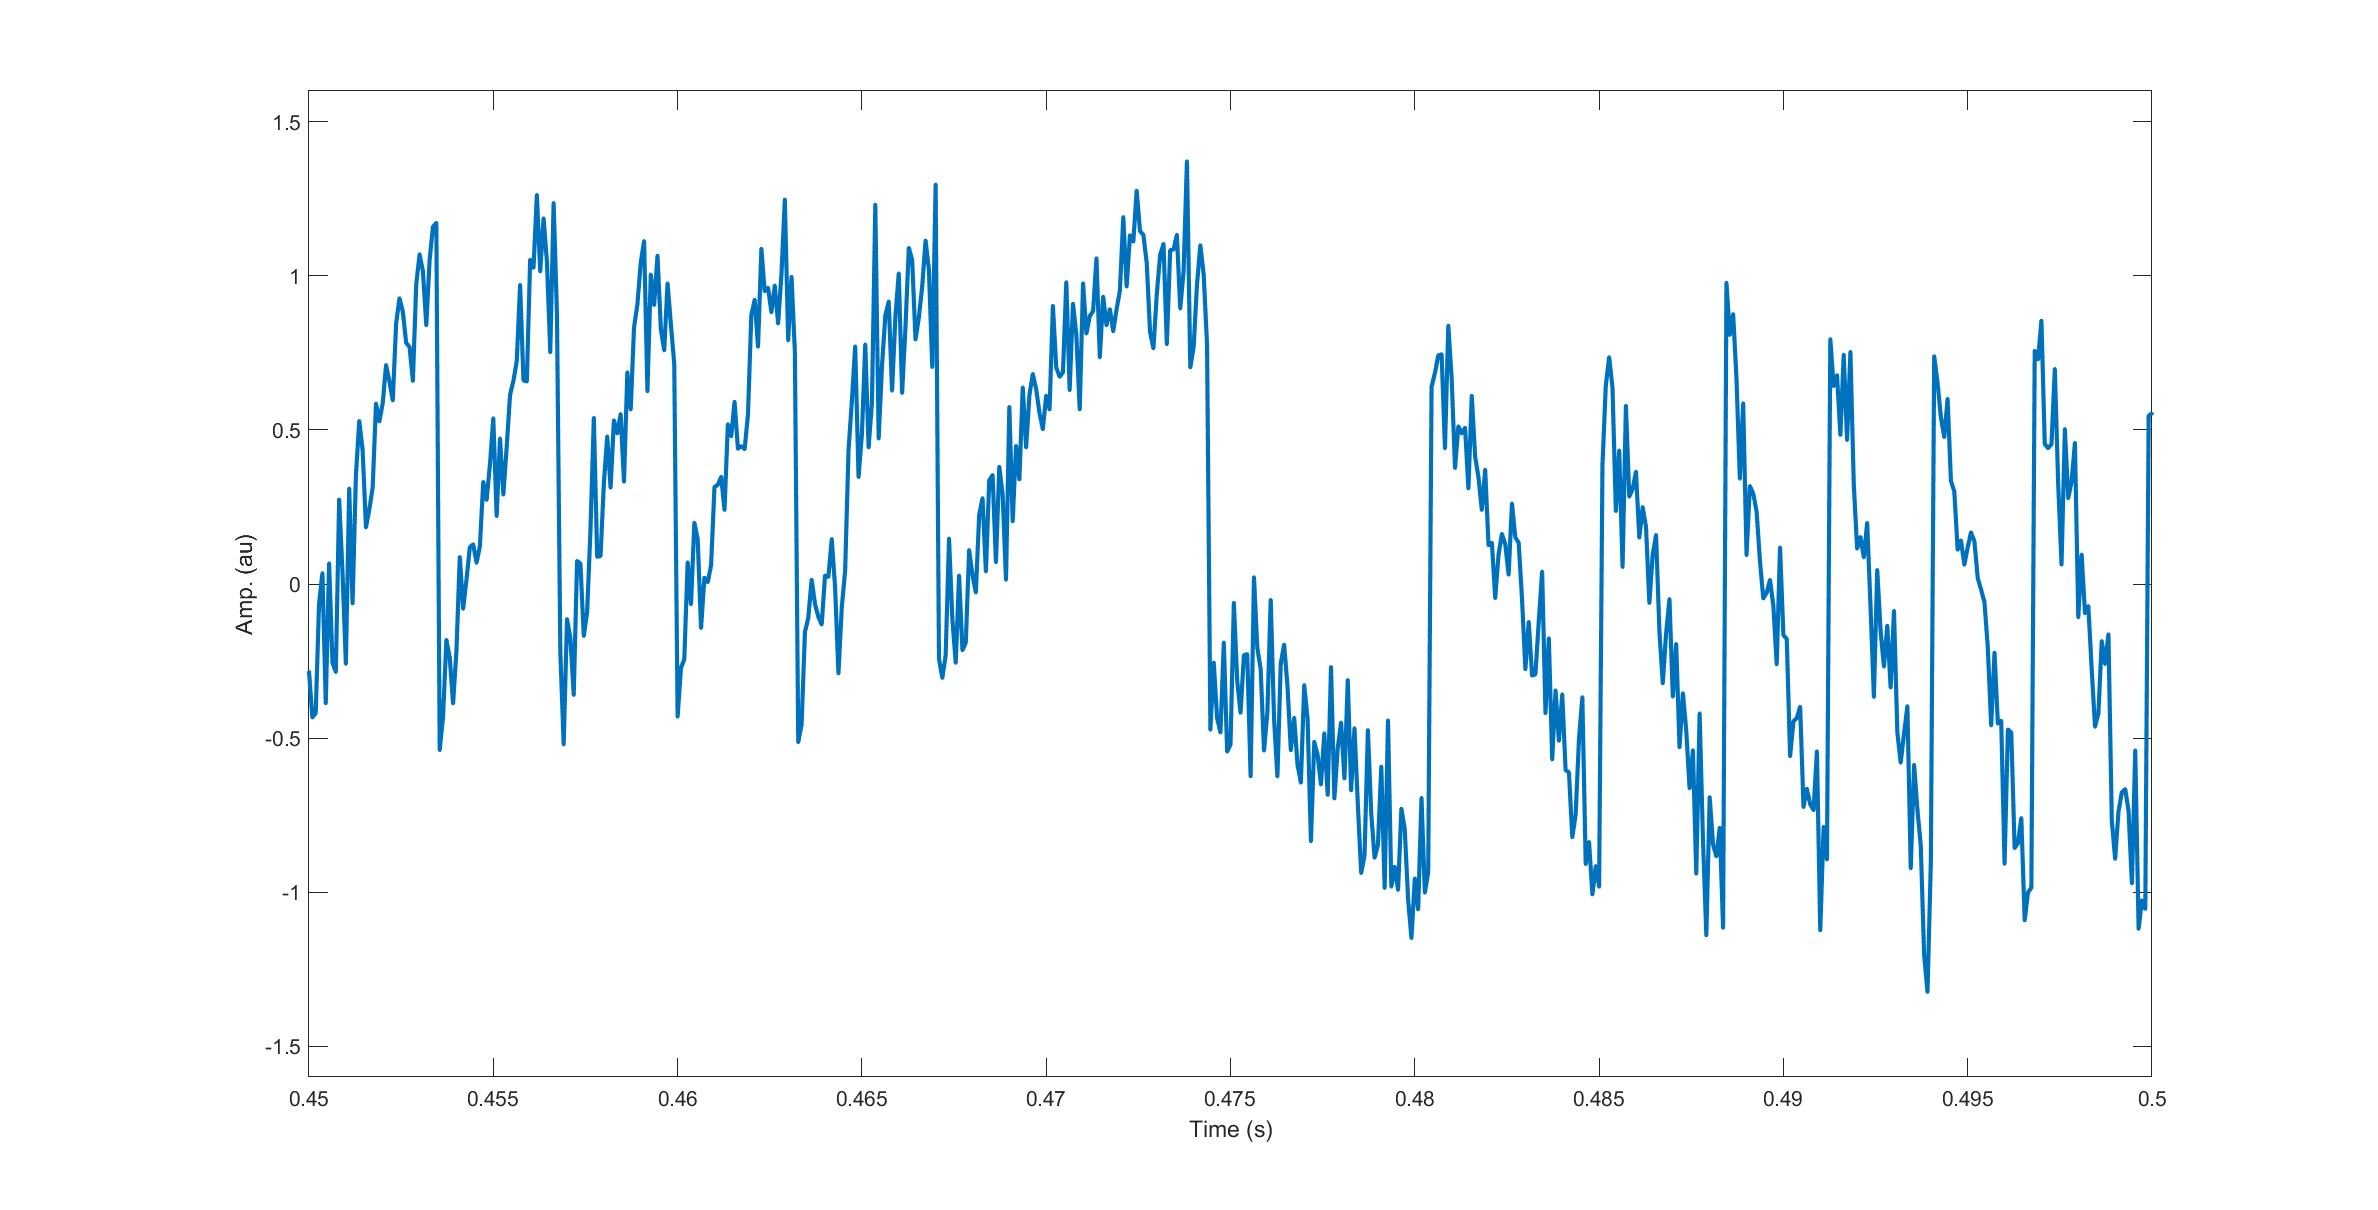negative_fringe: (1417, 302, 1574, 931), (2018, 301, 2128, 918), (1714, 265, 1805, 937), (1918, 341, 2012, 989), (1593, 358, 1704, 904), (1812, 323, 1914, 894)
positive_fringe: (975, 140, 1218, 711), (681, 177, 813, 756), (458, 174, 573, 762), (826, 156, 944, 701), (336, 210, 451, 766), (580, 232, 682, 701)
